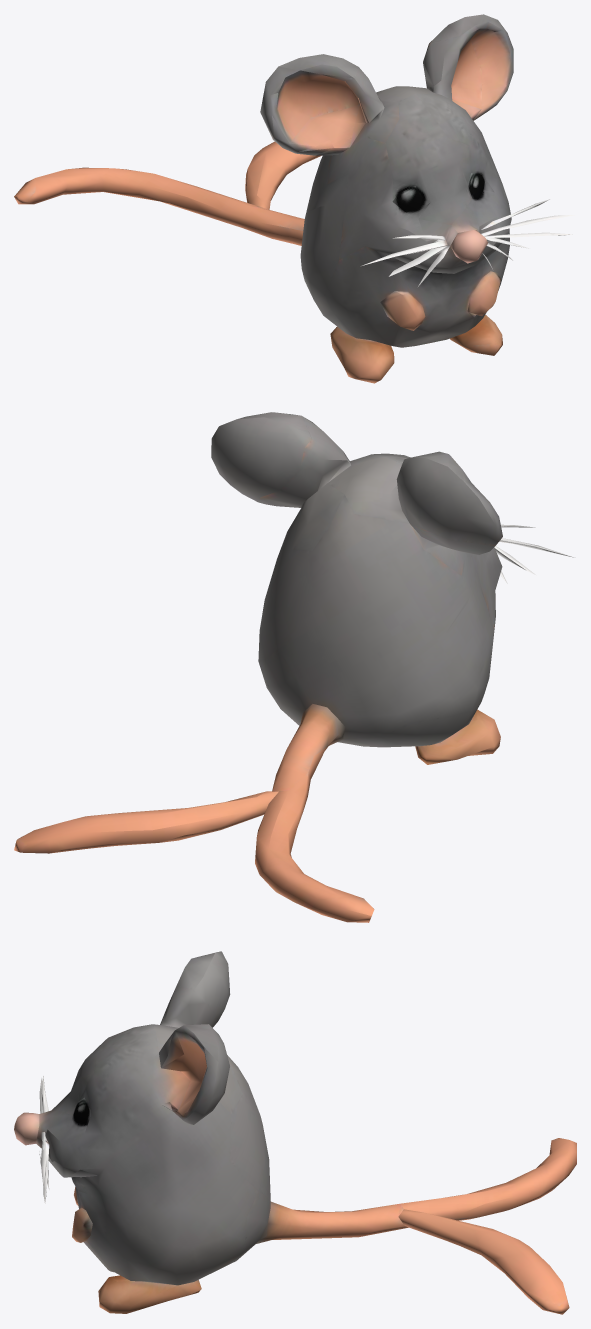
File: catToyPlush.glb
The picture shows the model from 3 angles, top to bottom: view 1: azimuth 30°, elevation 25°; view 2: azimuth 150°, elevation 25°; view 3: azimuth 270°, elevation 25°; orthographic projection. The views are drawn at different scales.
Parts seen in each view (by area): view 1: model; view 2: model; view 3: model.
Boxes of the visible parts, bbox=[...] form: model: bbox=[14, 14, 574, 383]; model: bbox=[14, 412, 574, 922]; model: bbox=[14, 951, 576, 1314].
Bounding box in the file's own units: 1.24 × 1.08 × 1.89.
1 material, 1 textured.
